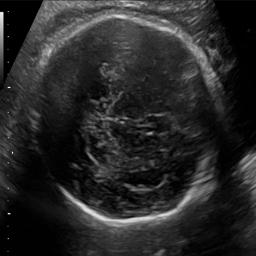normal: (30, 15, 226, 230)
